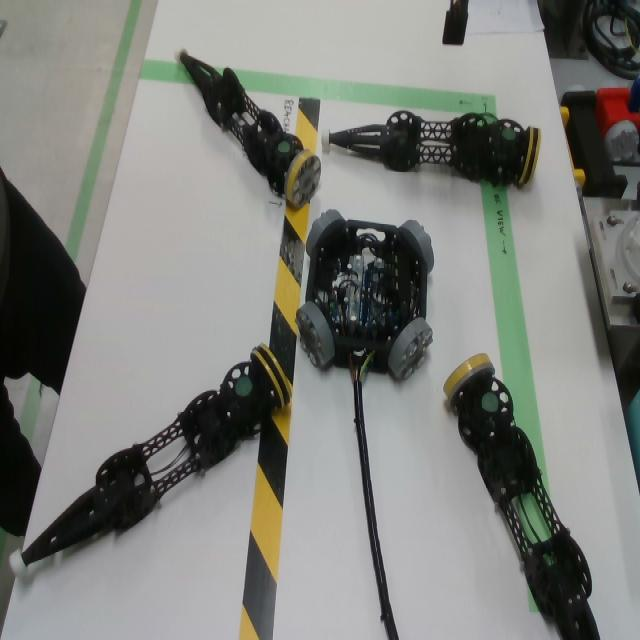body: (305, 220, 427, 373)
body_connector: (388, 317, 433, 383), (296, 301, 336, 372), (400, 220, 435, 275), (305, 209, 345, 257)
leg: (7, 344, 293, 577), (443, 353, 601, 640), (174, 45, 322, 209), (322, 111, 543, 188)
leg_connector: (443, 353, 495, 411), (250, 344, 293, 409), (285, 149, 321, 209), (518, 127, 541, 188)
leg_marker: (234, 376, 253, 397), (481, 392, 499, 413), (502, 128, 515, 141), (277, 141, 290, 153)
